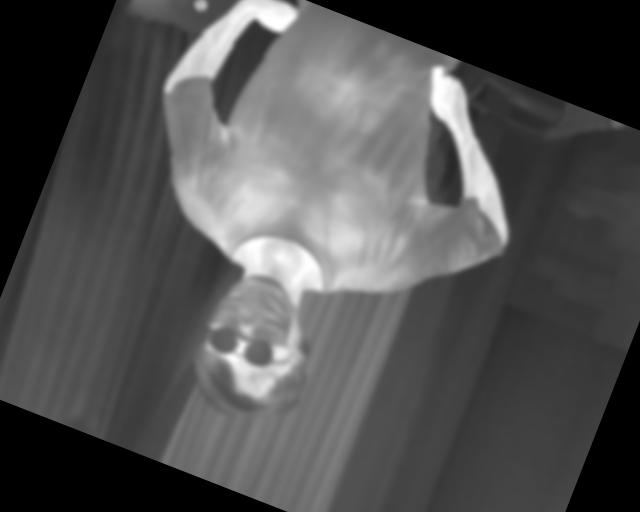face: (174, 258, 338, 437)
